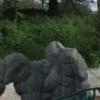Statue: (7, 38, 99, 100)
